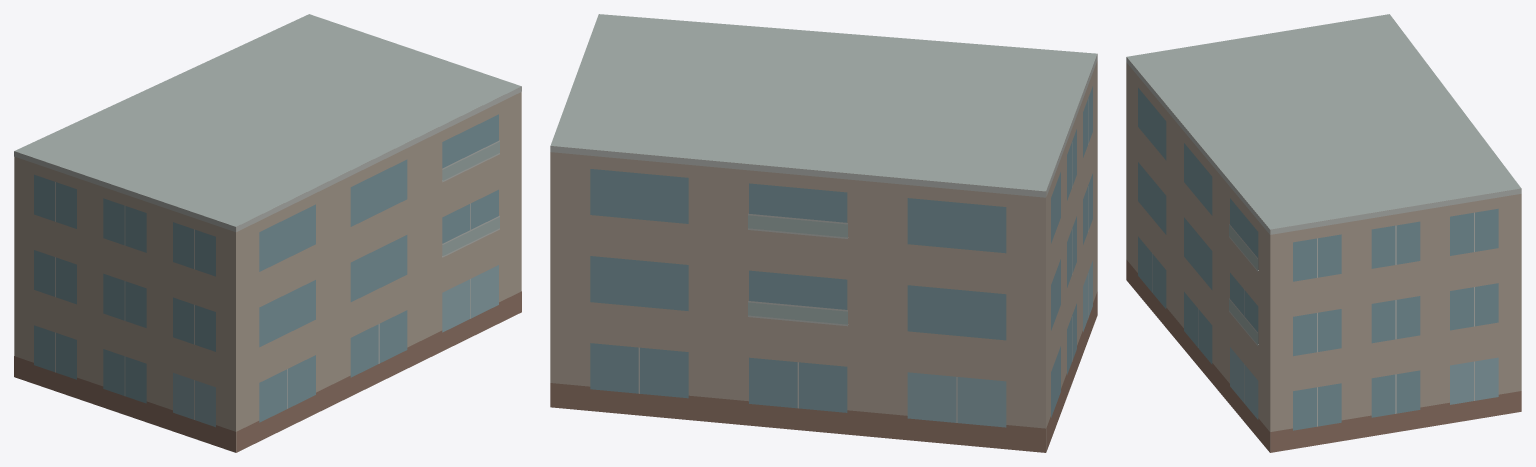
File: survey-upis-32837833.glb
The picture shows the model from 3 angles, left to right: view 1: azimuth 30°, elevation 25°; view 2: azimuth 150°, elevation 25°; view 3: azimuth 270°, elevation 25°; orthographic projection. The views are drawn at different scales.
Visible parts, largest first — view 1: survey-upis-32837833.tmp; view 2: survey-upis-32837833.tmp; view 3: survey-upis-32837833.tmp.
Boxes of the visible parts, left/top/right/bottom form: survey-upis-32837833.tmp: left=14, top=14, right=521, bottom=452; survey-upis-32837833.tmp: left=550, top=14, right=1097, bottom=452; survey-upis-32837833.tmp: left=1126, top=14, right=1521, bottom=452.
Size of the model in its own units: 21.13 by 10.2 by 16.37.
